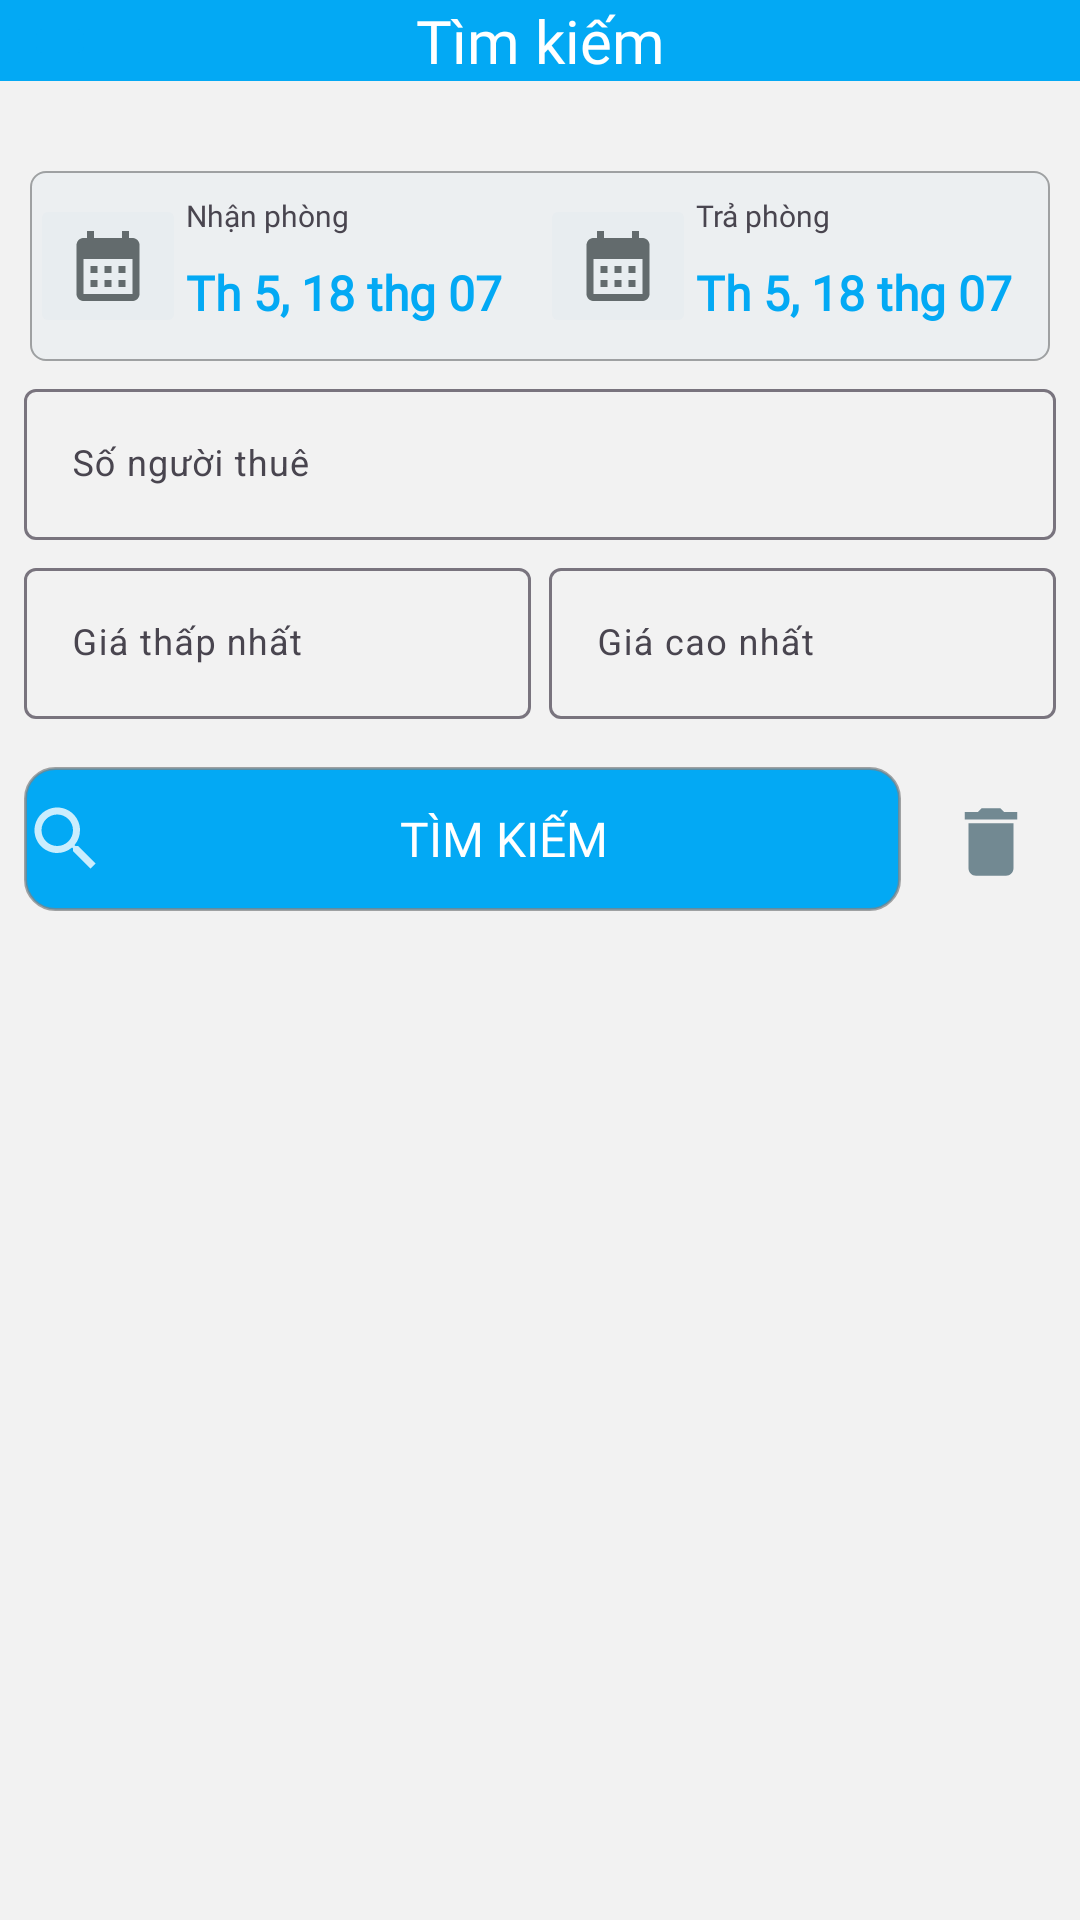

Icon click points for this 1080*1920 phone screenshot, format point (x, y):
calendar: point (108, 266), point (618, 266)
delete: point (991, 842)
